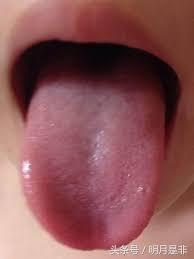baitaishe: (19, 80, 165, 251)
hongshe: (19, 80, 165, 251)
